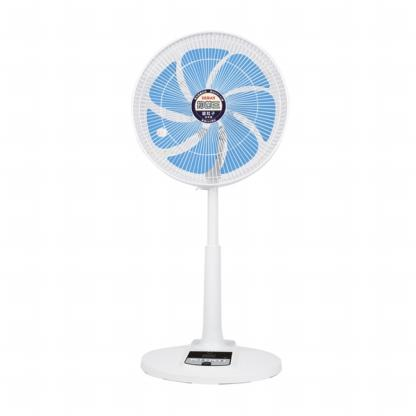fan: (127, 26, 304, 393)
